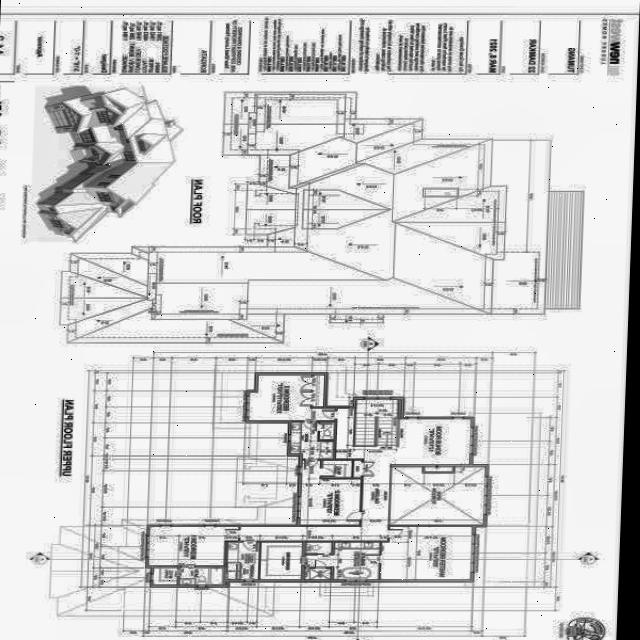room: (379, 527, 471, 580), (299, 460, 361, 527), (248, 375, 334, 421), (148, 527, 238, 566), (304, 542, 379, 580), (259, 542, 302, 580), (289, 422, 333, 459), (226, 541, 258, 581), (178, 568, 223, 585), (321, 460, 351, 478), (312, 374, 323, 407), (303, 568, 330, 580), (304, 542, 331, 554), (319, 421, 334, 440), (352, 460, 361, 478)
